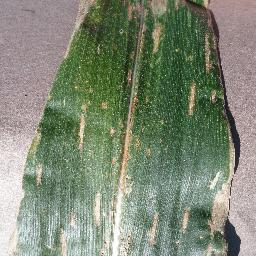Gray_Leaf_Spot: (110, 103, 144, 256), (208, 166, 237, 256), (63, 0, 102, 57), (211, 84, 238, 165), (203, 0, 225, 82), (21, 119, 45, 189), (139, 0, 168, 57), (121, 50, 137, 100), (73, 102, 87, 154), (88, 186, 105, 227), (145, 209, 160, 251), (119, 0, 138, 24), (186, 78, 197, 119), (54, 228, 69, 254), (182, 204, 191, 240), (174, 0, 201, 12), (69, 210, 78, 231), (97, 98, 109, 111)
